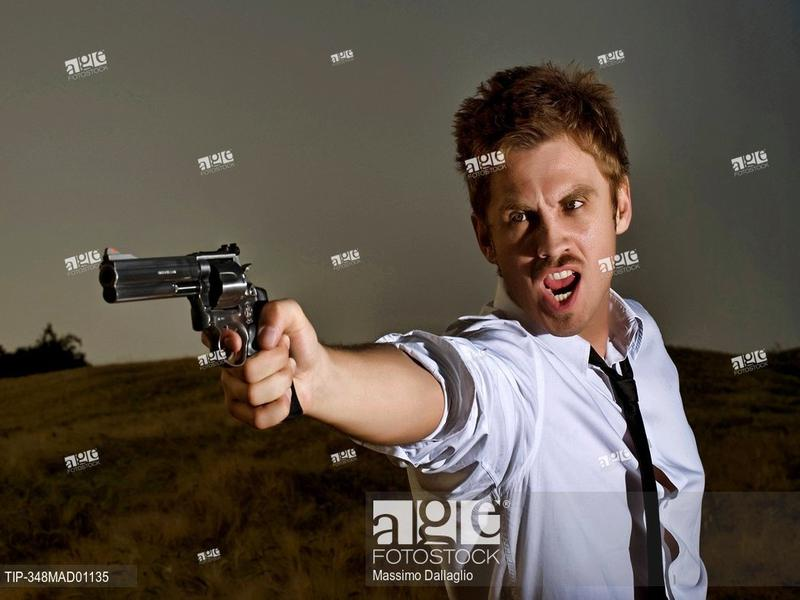Revolver: (91, 235, 287, 370)
